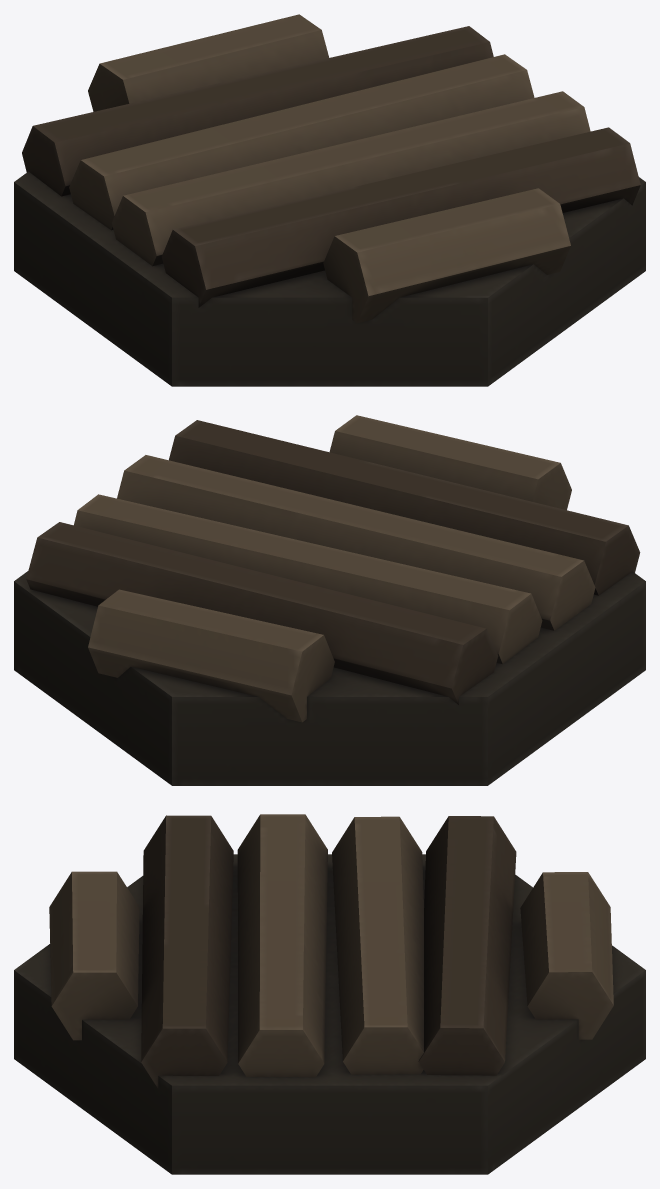
File: tile_hex_planks.glb
The picture shows the model from 3 angles, top to bottom: view 1: azimuth 30°, elevation 25°; view 2: azimuth 150°, elevation 25°; view 3: azimuth 270°, elevation 25°; orthographic projection.
Parts seen in each view (by area): view 1: tile_hex_planks; view 2: tile_hex_planks; view 3: tile_hex_planks.
Boxes of the visible parts, box(x1,y1,x2,y2) form: tile_hex_planks: box(14, 14, 645, 386); tile_hex_planks: box(14, 415, 645, 785); tile_hex_planks: box(14, 814, 645, 1174).
Size of the model in its own units: 1.12 by 0.3097 by 1.29.
Materials: 1 (1 with a texture image).
